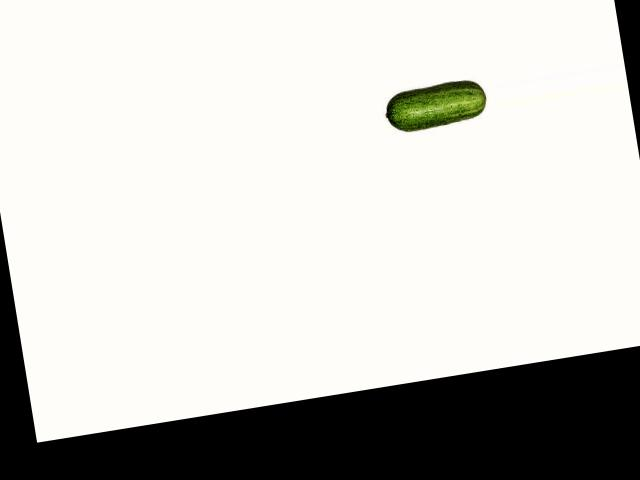cucumber: (381, 77, 488, 134)
